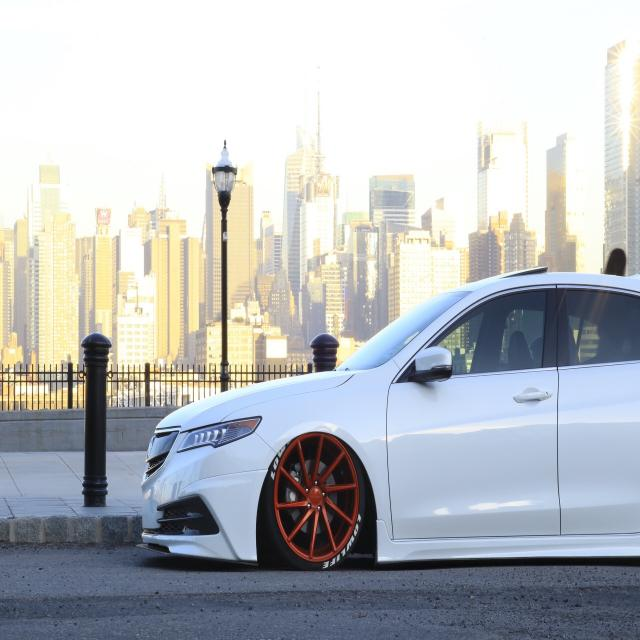Lamppost: (198, 125, 240, 402)
car: (208, 282, 634, 560)
column: (71, 338, 121, 514)
